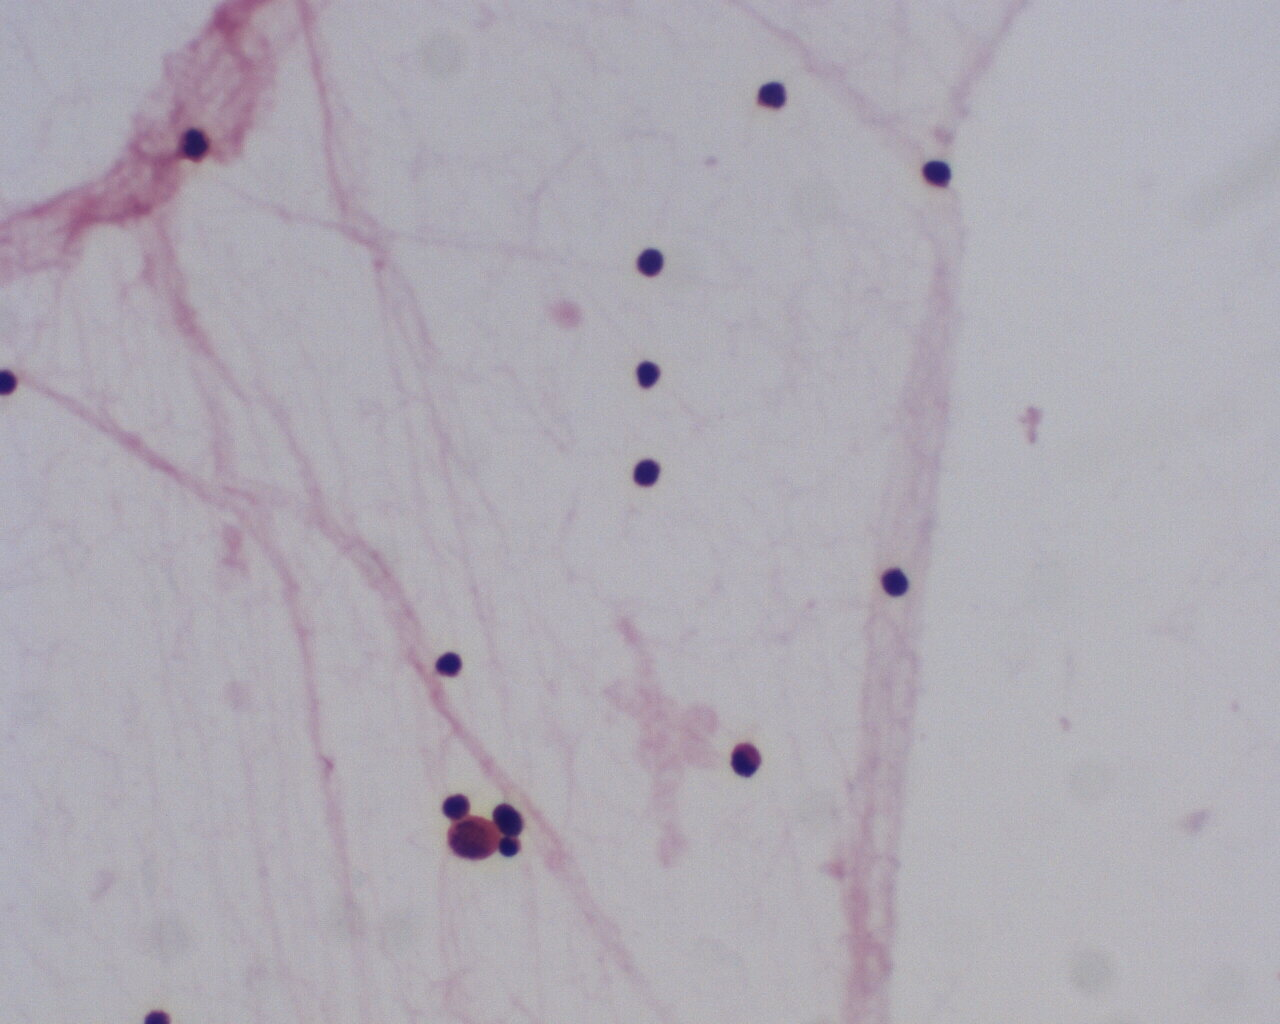ab: (448, 815, 502, 864)
lymph: (429, 643, 467, 680), (629, 453, 664, 489), (878, 567, 916, 598), (634, 243, 668, 278), (633, 357, 666, 389), (920, 160, 954, 187)
